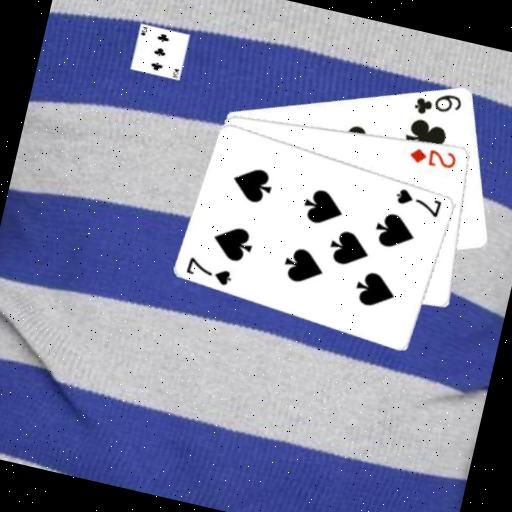2D: (406, 140, 460, 173)
6C: (410, 83, 466, 124)
7S: (391, 184, 446, 220), (182, 253, 237, 289)
